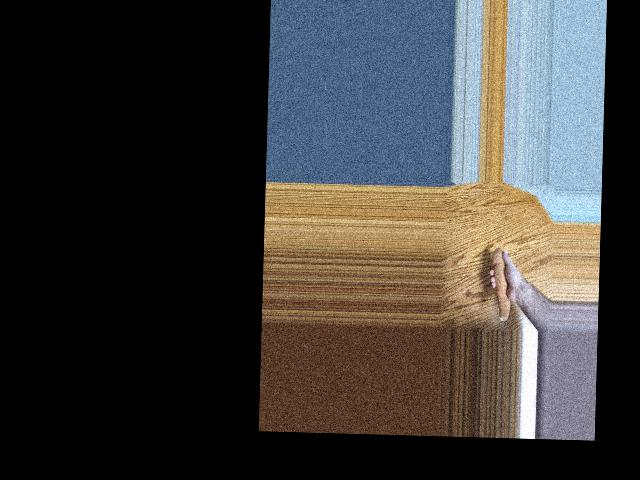sweet_potato: (487, 248, 513, 321)
